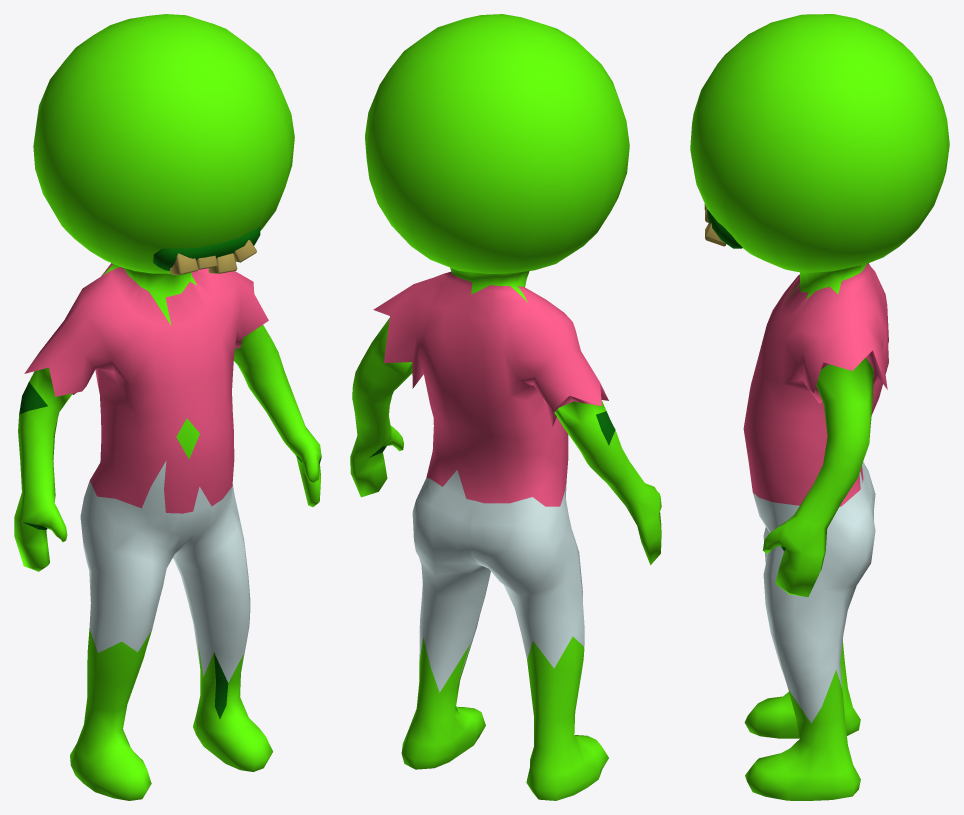
File: zombie_A_pose.fbx
3 renders of one model, left to right at view 1: azimuth 30°, elevation 25°; view 2: azimuth 150°, elevation 25°; view 3: azimuth 270°, elevation 25°, orthographic.
Visible parts, largest first — view 1: zombie_A_pose; view 2: zombie_A_pose; view 3: zombie_A_pose.
Boxes of the visible parts, x1,y1,x2,y2 form: zombie_A_pose: (14,14,321,800); zombie_A_pose: (350,14,661,800); zombie_A_pose: (690,14,949,800).
Bounding box in the file's own units: 78.34 × 185 × 59.32.
